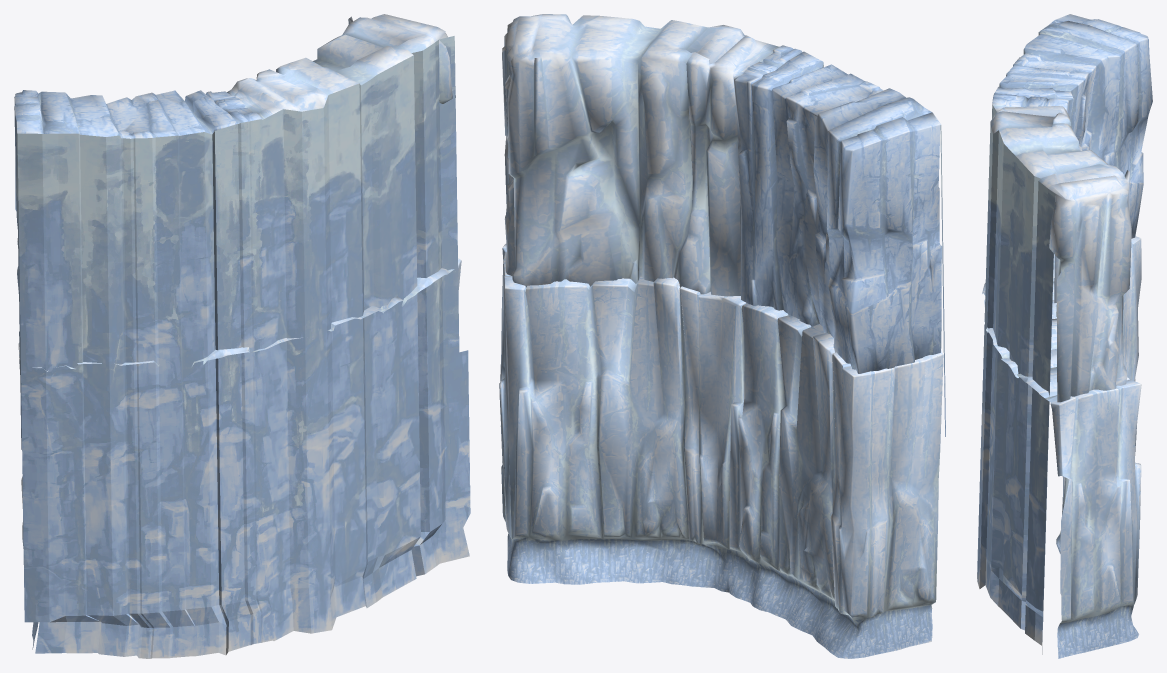
The model's file is bel_env_cliff_uberwall_06.glb.
3 renders of one model, left to right at view 1: azimuth 30°, elevation 25°; view 2: azimuth 150°, elevation 25°; view 3: azimuth 270°, elevation 25°, orthographic. The views are drawn at different scales.
Parts seen in each view (by area): view 1: bel_env_cliff_uberwall_06; view 2: bel_env_cliff_uberwall_06; view 3: bel_env_cliff_uberwall_06.
Boxes of the visible parts, left/top/right/bottom form: bel_env_cliff_uberwall_06: left=14, top=14, right=470, bottom=658; bel_env_cliff_uberwall_06: left=499, top=14, right=945, bottom=658; bel_env_cliff_uberwall_06: left=977, top=14, right=1152, bottom=658.
Size of the model in its own units: 21.27 by 24.79 by 8.38.
Materials: 2 (2 with a texture image).
